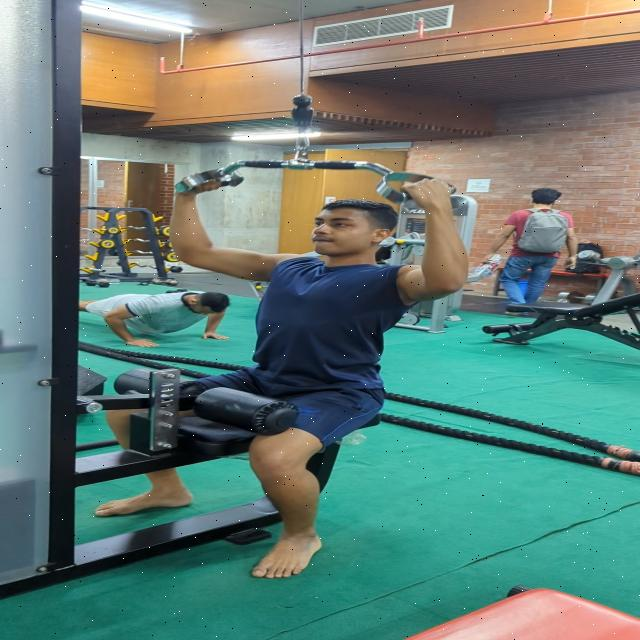Normal_LatPulldown: (89, 160, 483, 587)
